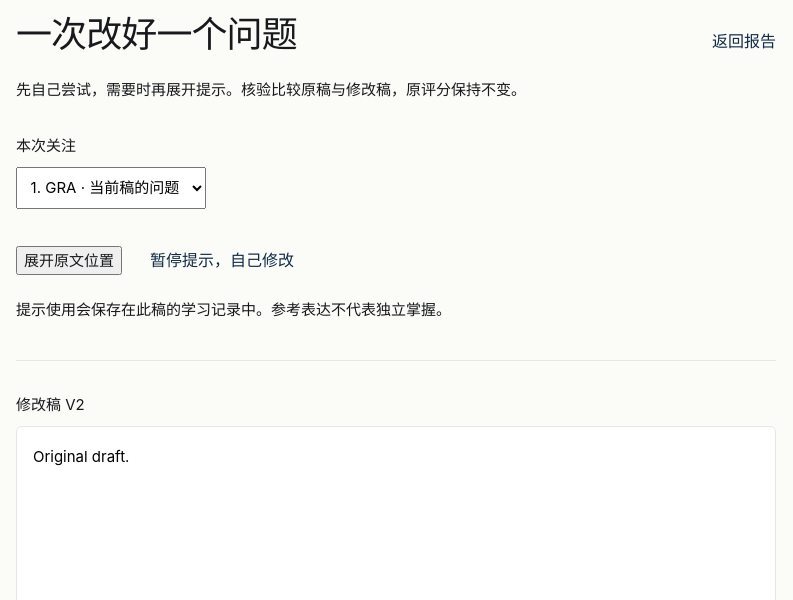
reveals only the requested hint and sends the current version
Click the button "展开原文位置": (69, 261) x1=16 y1=246 x2=122 y2=275
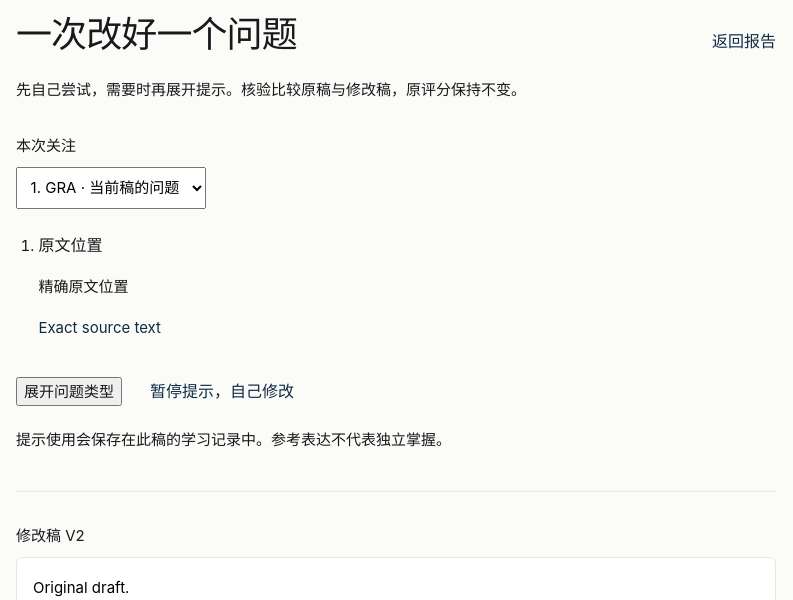
Expected: the text "精确原文位置" is shown, x1=38 y1=278 x2=128 y2=296
